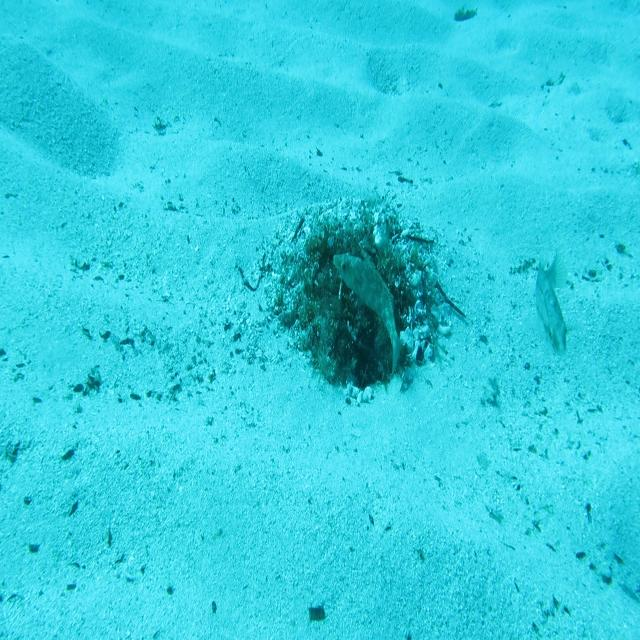LF: (331, 247, 405, 381)
core_nest: (324, 240, 371, 280)
female: (527, 243, 576, 362)
nest: (261, 182, 458, 420)
vegetation: (452, 7, 480, 25), (306, 602, 326, 623)
